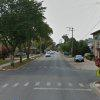Crosswalk: (5, 75, 100, 100)
